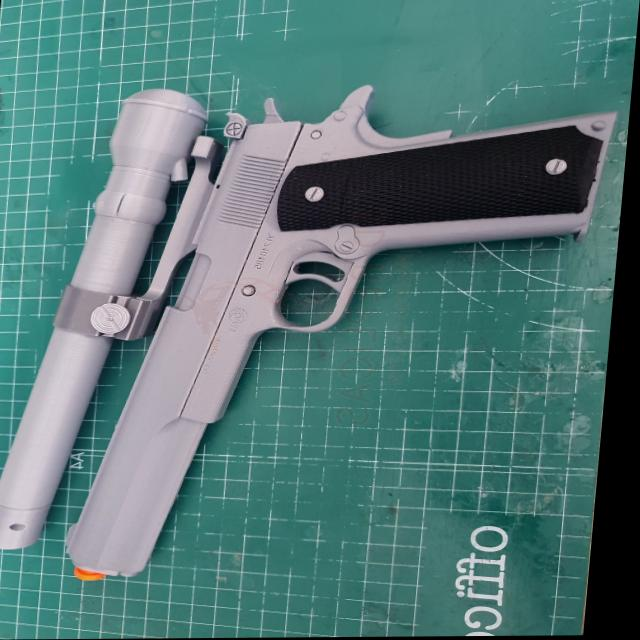handgun: (68, 83, 625, 592)
